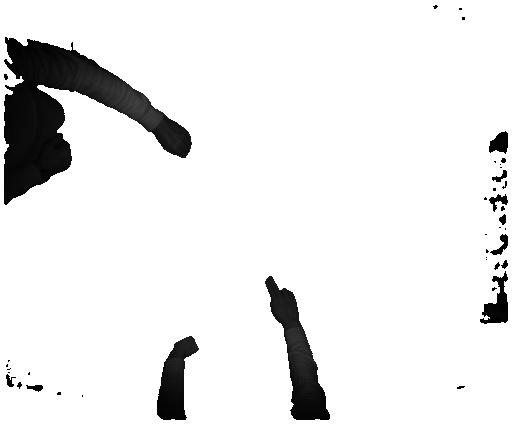fist: (39, 134, 71, 182), (160, 125, 191, 159), (172, 336, 199, 361)
hand: (264, 272, 303, 325)
